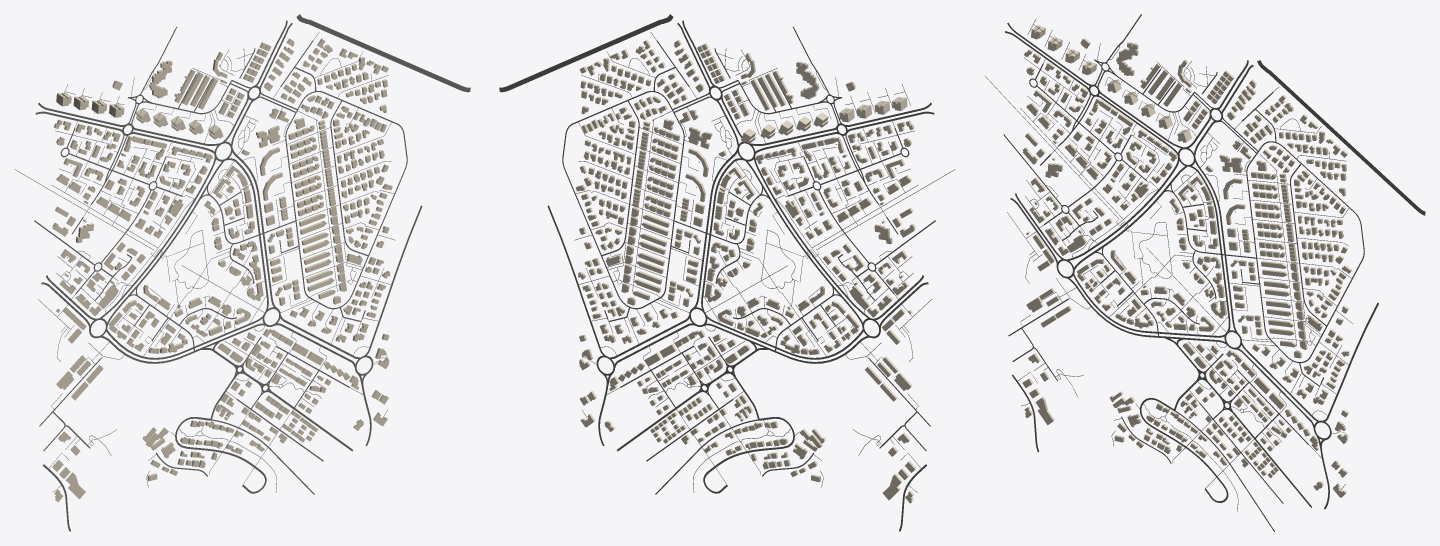
The model's file is historic-palestine-07_01_3493_2954.glb.
3 renders of one model, left to right at view 1: azimuth 30°, elevation 25°; view 2: azimuth 150°, elevation 25°; view 3: azimuth 330°, elevation 25°, orthographic. The views are drawn at different scales.
Visible parts, largest first — view 1: Road הגיא; view 2: Road הגיא; view 3: Road הגיא.
Boxes of the visible parts, x1,y1,x2,y2 form: Road הגיא: (296,14,470,92); Road הגיא: (499,14,673,92); Road הגיא: (1257,60,1425,215).
Size of the model in its own units: 1306 by 1374 by 32.2.
